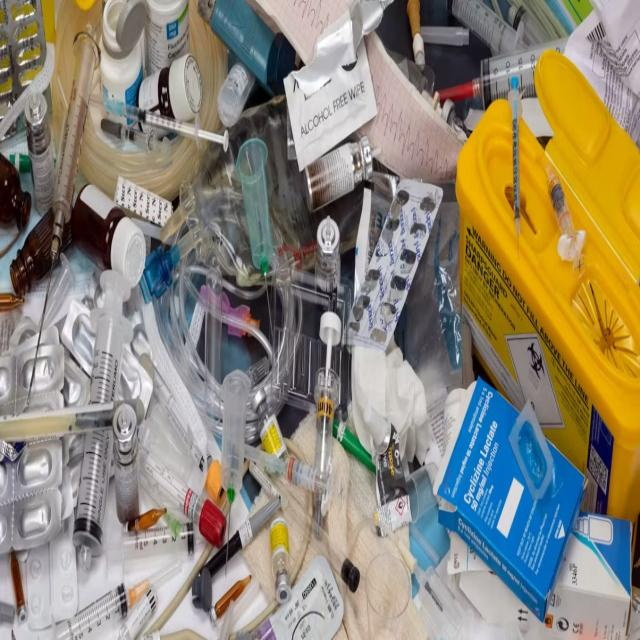Medical Waste: (5, 0, 633, 627)
